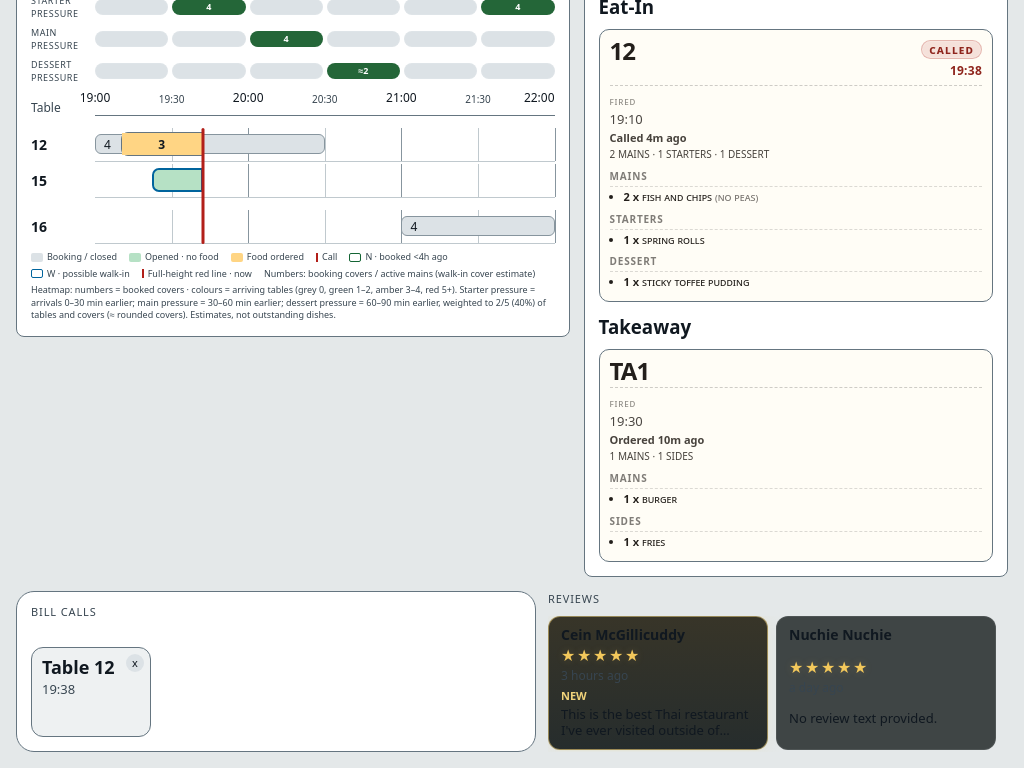
Scenario: KitchenDisplayScreen › renders mocked reviews in the footer and opens review detail in the right pane
This screenshot has width=1024, height=768.
(page scrolled)
expect the element labelled "Reviews" is shown: met, box [548,590,1008,752]
What coordinates should you click on to do the following:
click the button named "open review by cein mcgillicuddy"
I would click on:
 (658, 682)
Its box is [548,616,768,750].
(page scrolled)
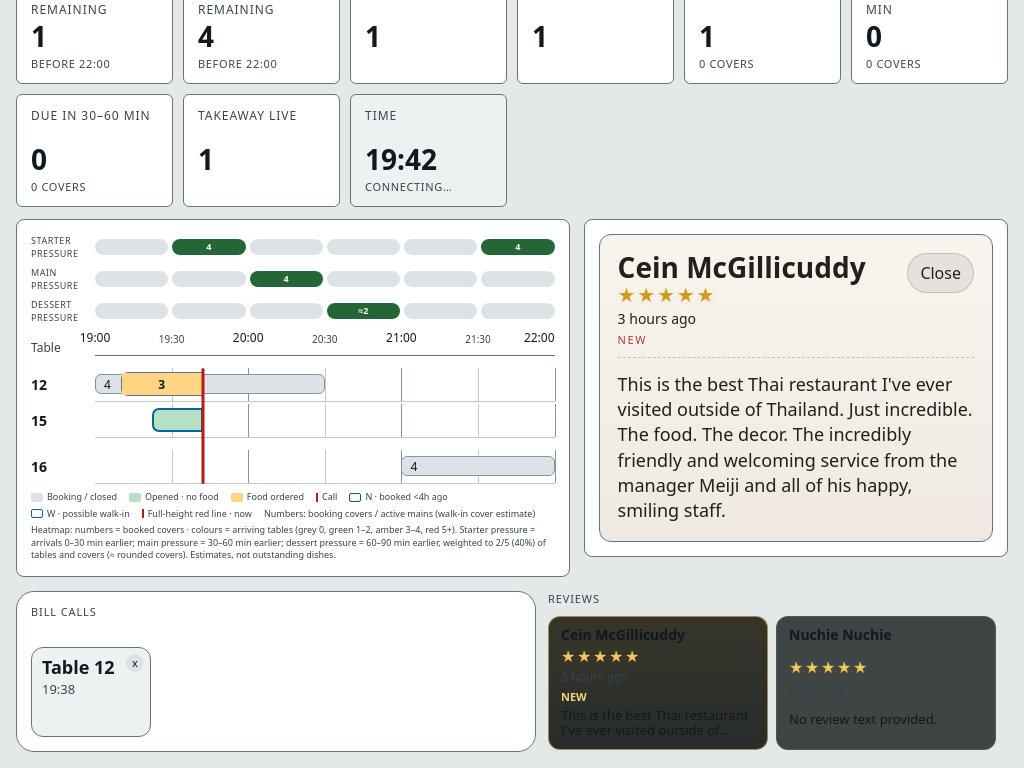
expect the heading "Cein McGillicuddy" is shown: met, box [618,253,866,281]
expect the text "This is the best Thai restaurant" in the row of "N · booked <4h ago" is shown: met, box [618,372,973,522]
